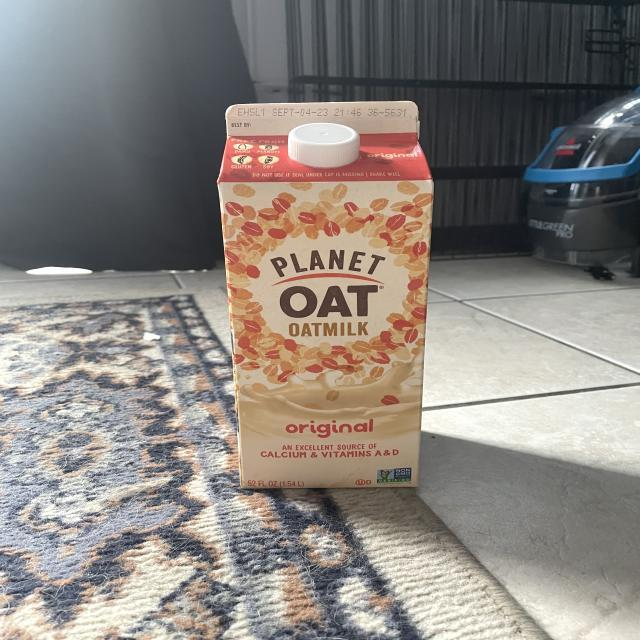Planet Oat Original: (209, 98, 442, 494)
